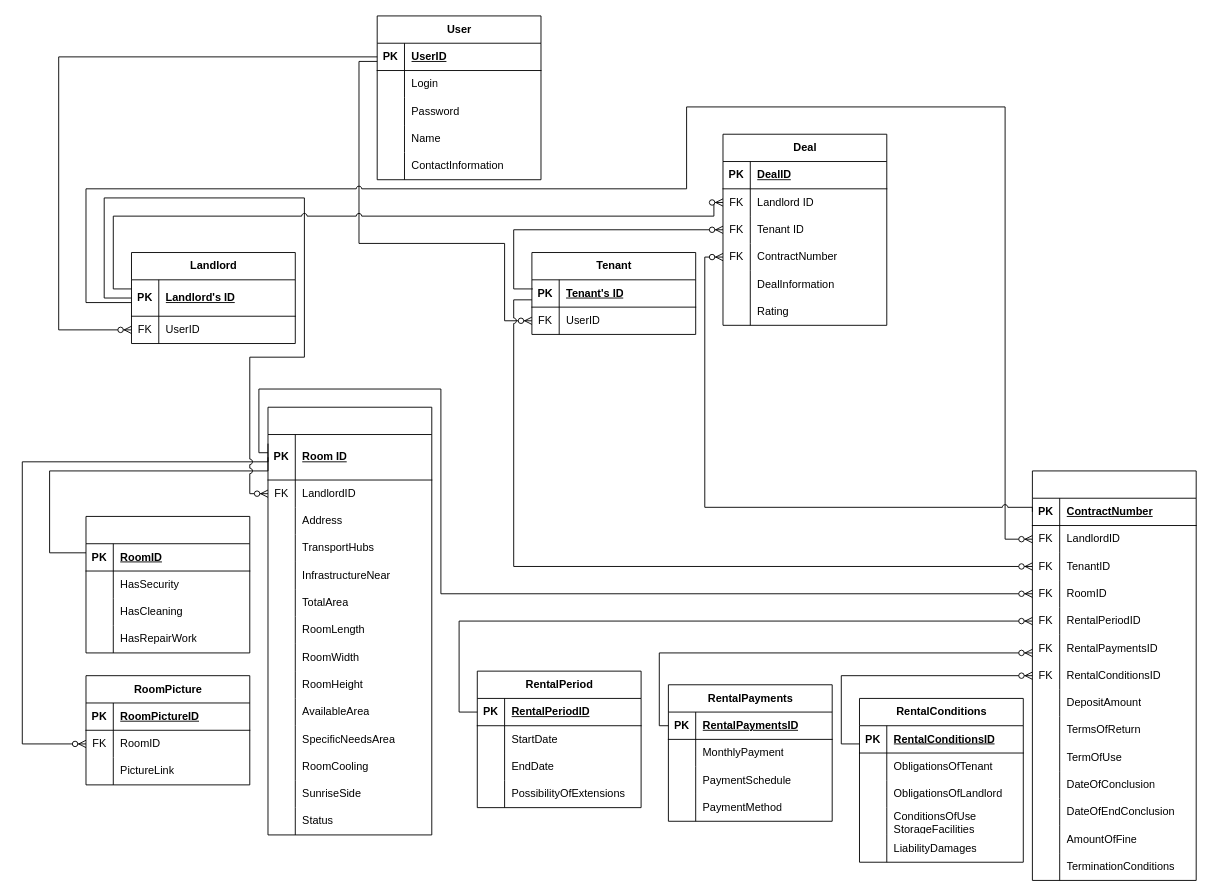
The diagram is 1212 pixels wide and 896 high, and some of its shapes have lost their labels. The box of each missing label's shape, as (x1, y1, x2, y2) in pixels:
Additional services: (85, 516, 250, 653)
ContractAgreement: (1031, 470, 1196, 880)
Storage room: (267, 406, 432, 835)
